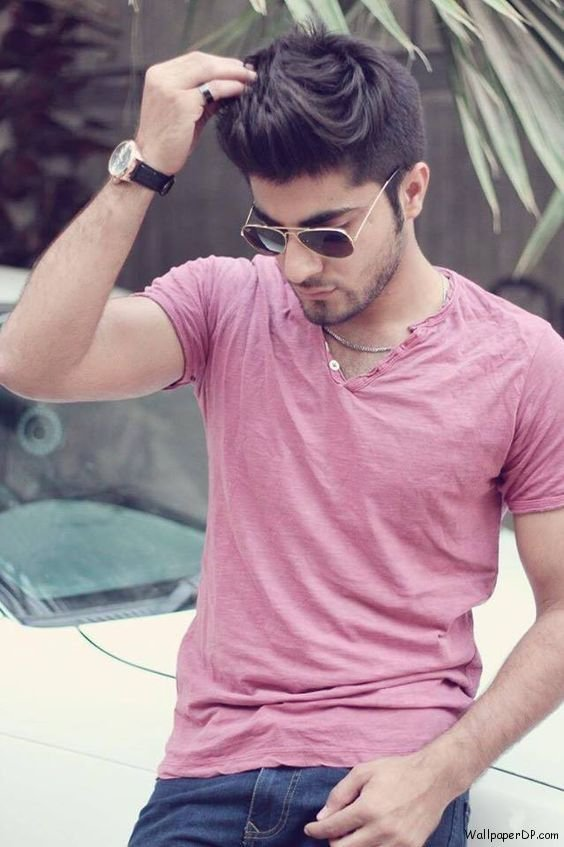noMask: (204, 113, 427, 331)
